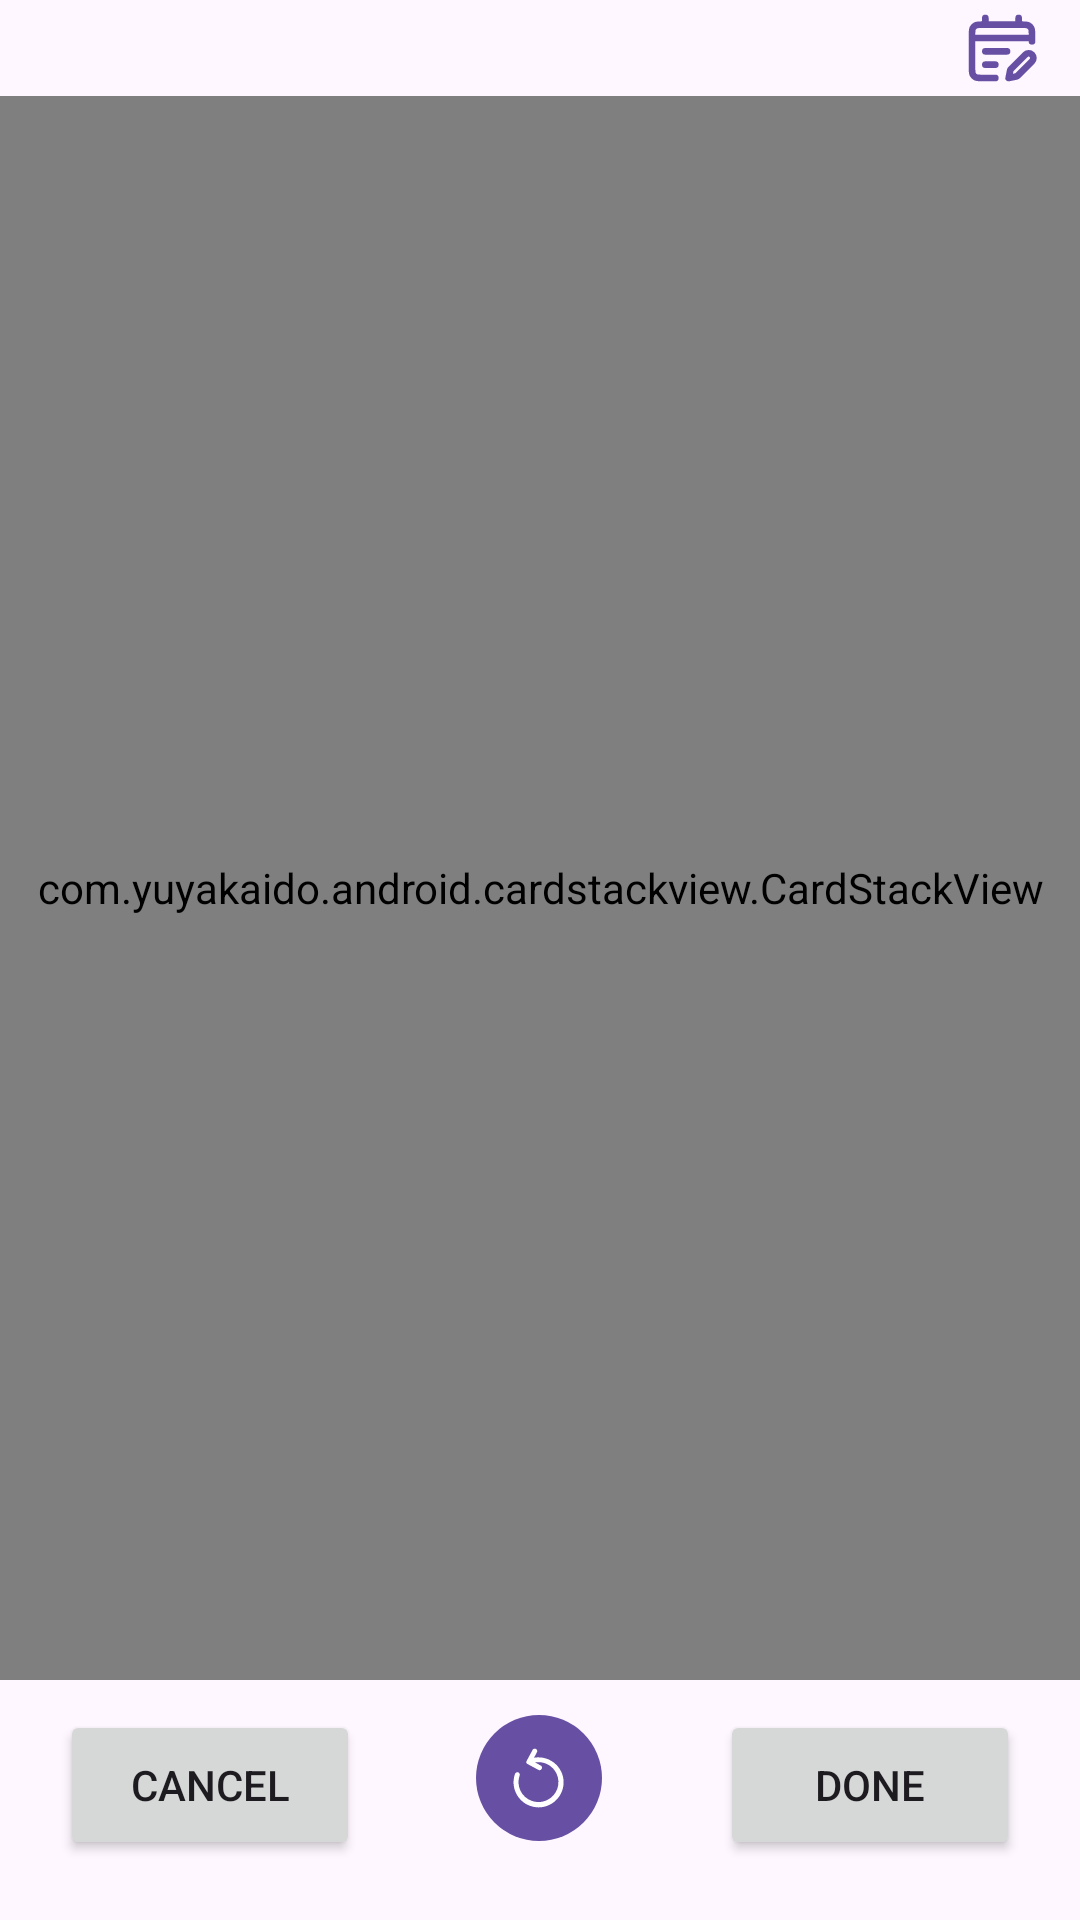

Screen size 1080*1920. Icon name, then its box in pixels as bbox=[x1, y1, x2, y2]:
calendar: bbox=[968, 14, 1037, 82]
restart medium: bbox=[476, 1715, 602, 1841]
